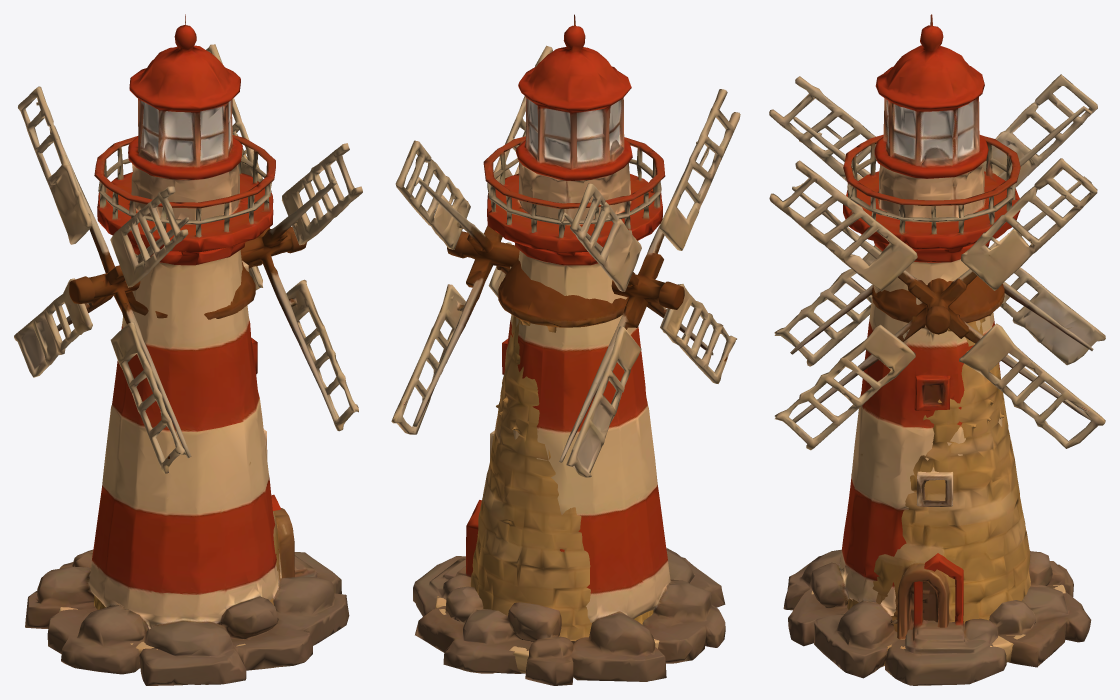
Rendered from monuments.glb.
The picture shows the model from 3 angles, left to right: view 1: azimuth 30°, elevation 25°; view 2: azimuth 150°, elevation 25°; view 3: azimuth 270°, elevation 25°; orthographic projection.
Visible parts, largest first — view 1: phare, moulin-a-vent; view 2: phare, moulin-a-vent; view 3: phare, moulin-a-vent.
Boxes of the visible parts, x1,y1,x2,y2 form: phare: (25,14,349,685); moulin-a-vent: (14,44,362,664); phare: (413,14,725,685); moulin-a-vent: (391,45,740,673); phare: (783,14,1091,685); moulin-a-vent: (769,74,1105,665).
Bounding box in the file's own units: 5.77 × 12 × 6.07.
Materials: 1 (1 with a texture image).
